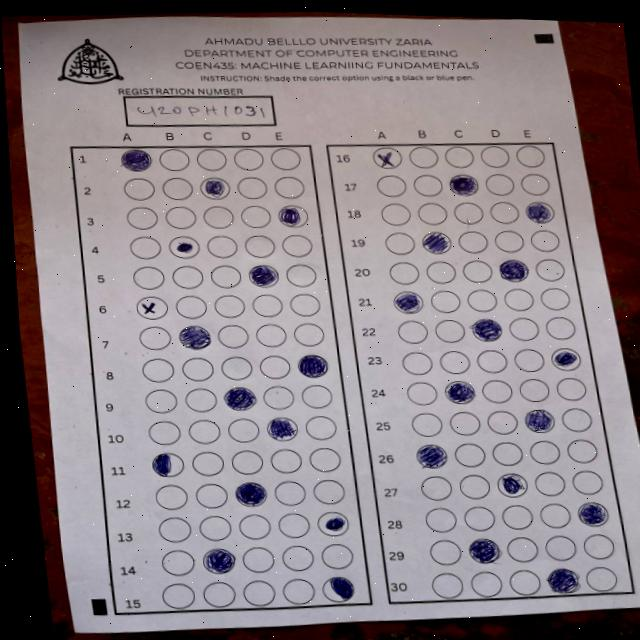bubble: (545, 567, 582, 595), (320, 575, 357, 603), (202, 547, 237, 576), (316, 509, 351, 538), (150, 451, 187, 478), (467, 537, 502, 565), (166, 234, 202, 261), (134, 294, 170, 321), (275, 203, 310, 230), (222, 386, 258, 412), (178, 324, 212, 351), (234, 481, 268, 508), (119, 148, 154, 174), (576, 500, 609, 527), (496, 472, 529, 499), (297, 353, 330, 379), (415, 443, 448, 469), (266, 416, 299, 442), (523, 408, 556, 434), (199, 176, 232, 202), (470, 317, 504, 342), (247, 263, 280, 288), (497, 258, 530, 283), (444, 380, 476, 405), (392, 290, 424, 315), (421, 231, 453, 255), (524, 201, 555, 225), (448, 174, 480, 197), (551, 348, 583, 371), (372, 146, 402, 169)
